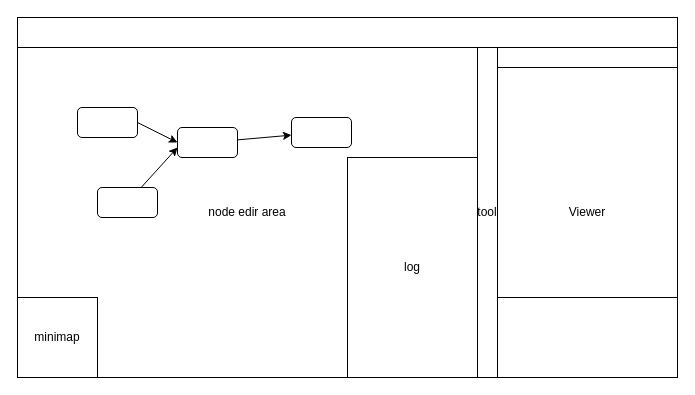
The diagram is 695 pixels wide and 395 high, and some of its shapes have lost their labels. Each missing label, with the centre of its shape:
"image params" belongs at [587,337].
"tab" belongs at [587,57].
"title" belongs at [347,32].
